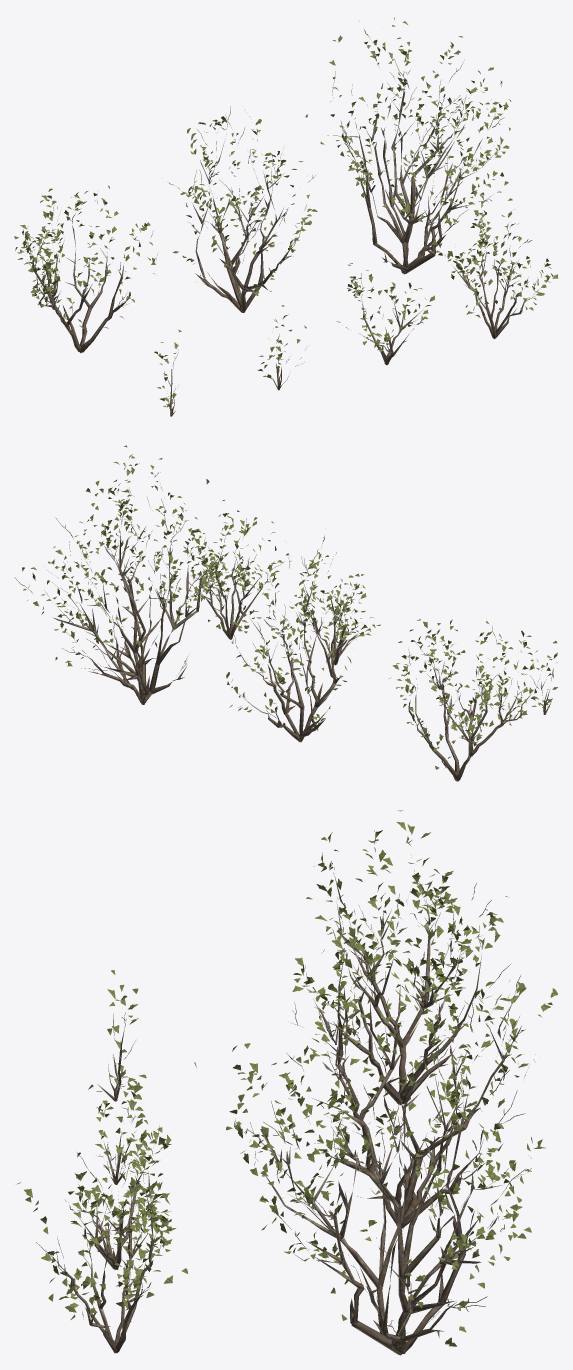
The model's file is searsia_lucida.glb.
3 renders of one model, top to bottom at view 1: azimuth 30°, elevation 25°; view 2: azimuth 150°, elevation 25°; view 3: azimuth 270°, elevation 25°, orthographic. The views are drawn at different scales.
Parts seen in each view (by area): view 1: searsia_lucida_a_LOD0, searsia_lucida_b_LOD0, searsia_lucida_c_LOD0, searsia_lucida_d_LOD0, searsia_lucida_e_LOD0; view 2: searsia_lucida_a_LOD0, searsia_lucida_b_LOD0, searsia_lucida_c_LOD0, searsia_lucida_d_LOD0, searsia_lucida_e_LOD0; view 3: searsia_lucida_a_LOD0, searsia_lucida_b_LOD0, searsia_lucida_c_LOD0, searsia_lucida_d_LOD0, searsia_lucida_e_LOD0, searsia_lucida_g_LOD0, searsia_lucida_f_LOD0.
Part boxes in pixels (<box>): searsia_lucida_a_LOD0: <box>305,17,511,274</box>; searsia_lucida_b_LOD0: <box>168,106,317,312</box>; searsia_lucida_c_LOD0: <box>14,185,179,353</box>; searsia_lucida_d_LOD0: <box>435,182,558,339</box>; searsia_lucida_e_LOD0: <box>336,263,435,365</box>; searsia_lucida_a_LOD0: <box>14,445,259,704</box>; searsia_lucida_b_LOD0: <box>208,535,365,742</box>; searsia_lucida_c_LOD0: <box>389,619,550,781</box>; searsia_lucida_d_LOD0: <box>183,500,284,639</box>; searsia_lucida_e_LOD0: <box>294,573,380,665</box>; searsia_lucida_a_LOD0: <box>194,957,545,1355</box>; searsia_lucida_b_LOD0: <box>291,893,557,1228</box>; searsia_lucida_c_LOD0: <box>292,810,509,1105</box>; searsia_lucida_d_LOD0: <box>16,1113,188,1353</box>; searsia_lucida_e_LOD0: <box>65,1077,171,1269</box>; searsia_lucida_g_LOD0: <box>97,970,138,1101</box>; searsia_lucida_f_LOD0: <box>88,1074,153,1184</box>.
Bounding box in the file's own units: 4.63 × 2.24 × 2.77.
Materials: 2 (2 with a texture image).
